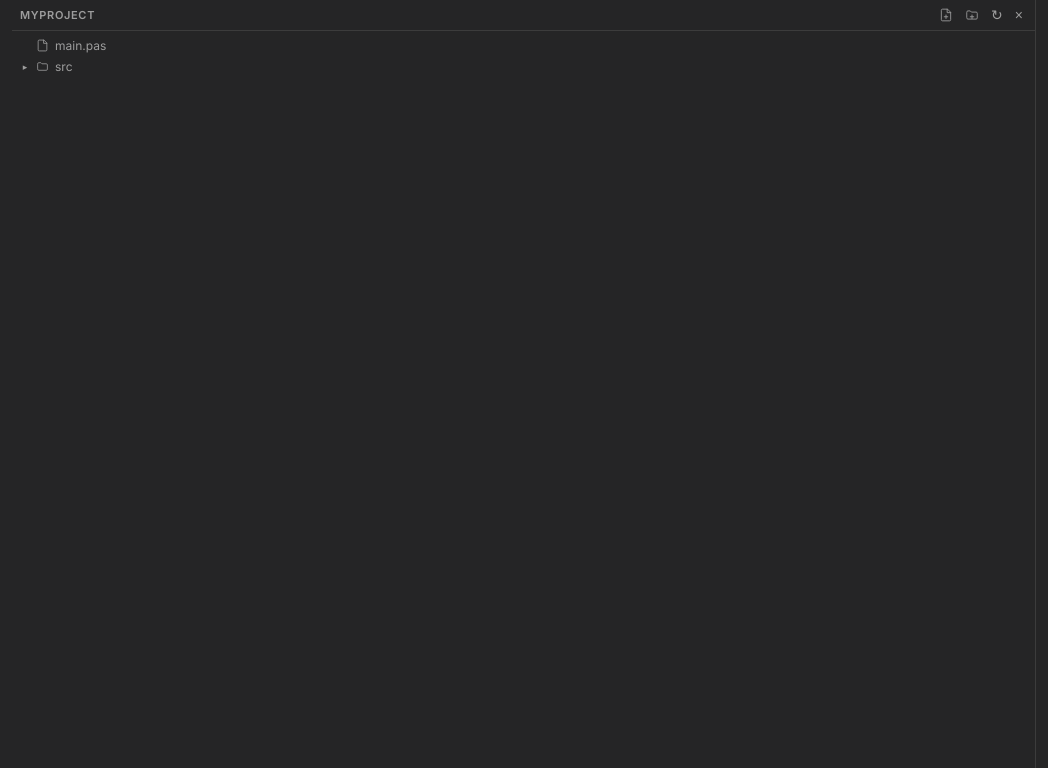
Scenario: FileTree selection and context menu › closes the context menu when the backdrop is clicked
Right-click the button "main.pas" at point(81, 46), box [12,35,1035,56]
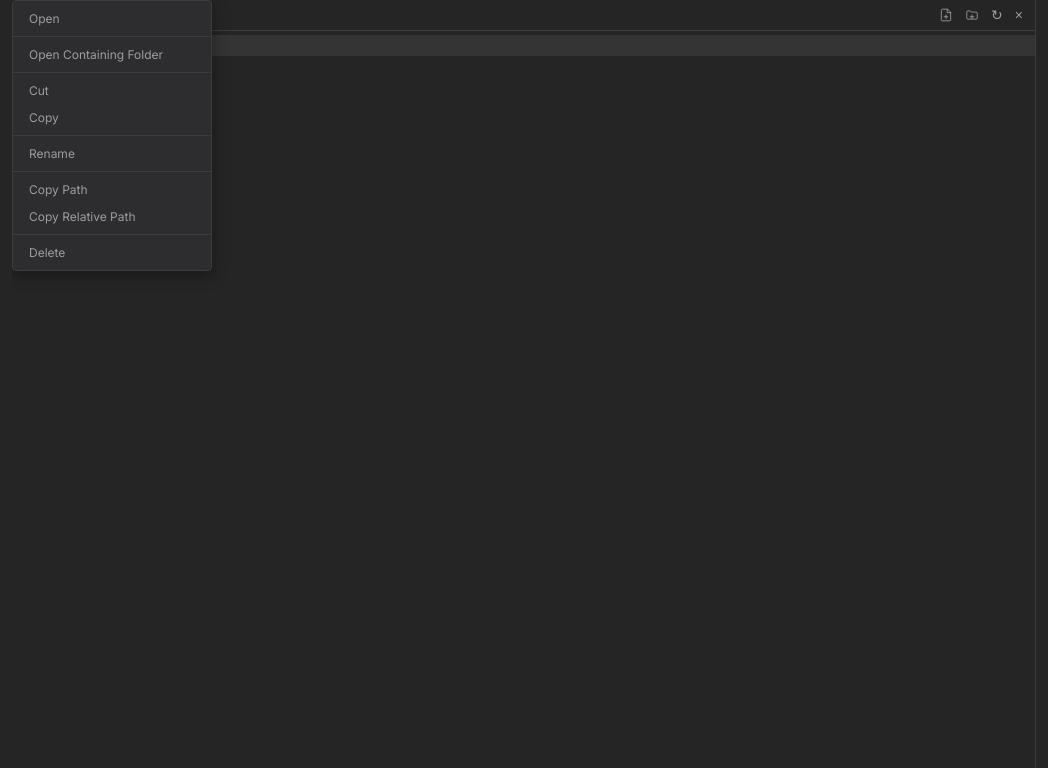
Now the button "Open" is shown, box [13,5,211,32]
Click the element with class "menu-backdrop" at point(524, 384), box [12,0,1036,767]
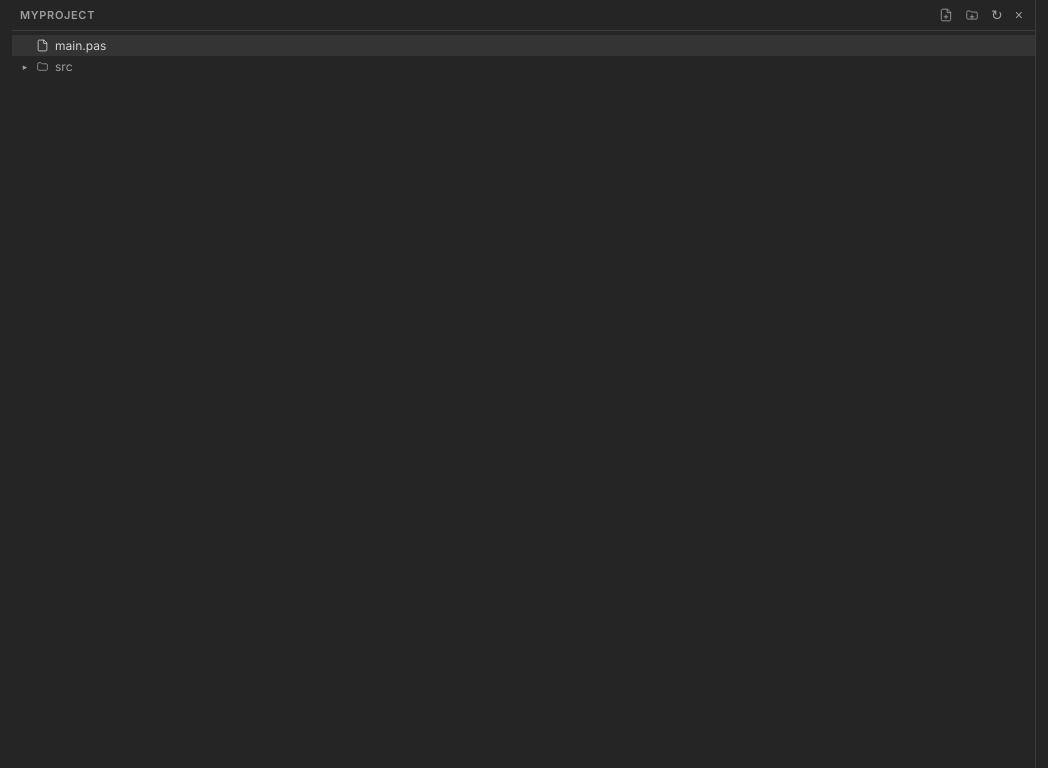
Now the button "Open" is gone
